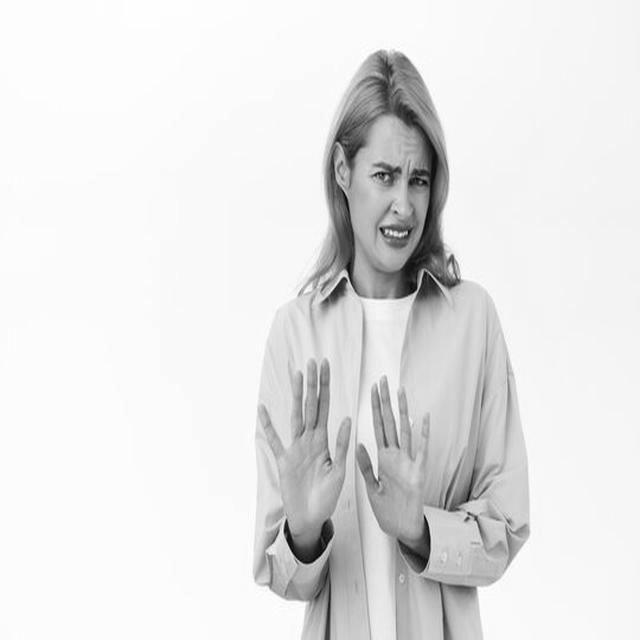Disgust: (354, 112, 433, 274)
